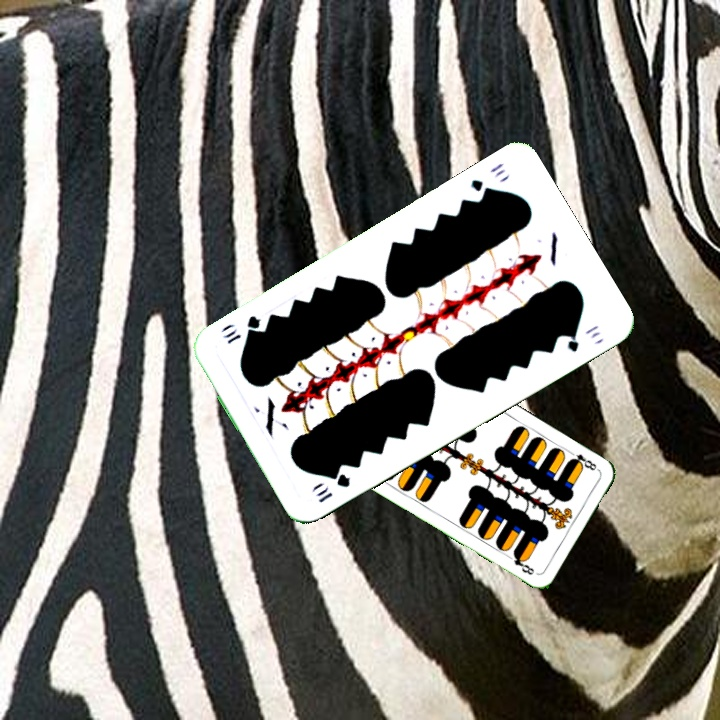E8: (565, 447, 601, 473)
G10: (466, 158, 508, 199), (313, 469, 353, 506)
